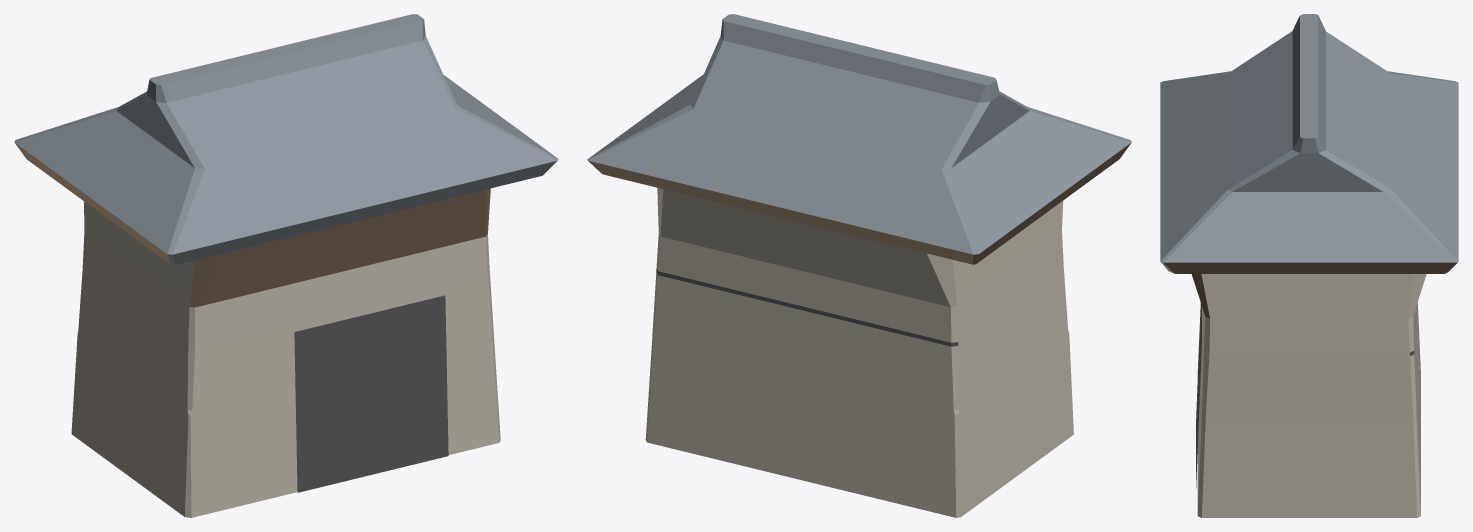
The model's file is loin.glb.
3 renders of one model, left to right at view 1: azimuth 30°, elevation 25°; view 2: azimuth 150°, elevation 25°; view 3: azimuth 270°, elevation 25°, orthographic. The views are drawn at different scales.
Visible parts, largest first — view 1: loin; view 2: loin; view 3: loin.
Boxes of the visible parts, x1,y1,x2,y2 form: loin: [14, 14, 558, 517]; loin: [587, 14, 1131, 517]; loin: [1160, 14, 1458, 517].
Size of the model in its own units: 0.9947 by 0.9427 by 0.6908.
